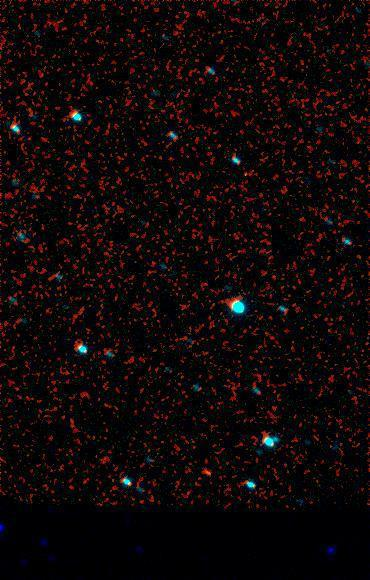star: (192, 457, 222, 487)
